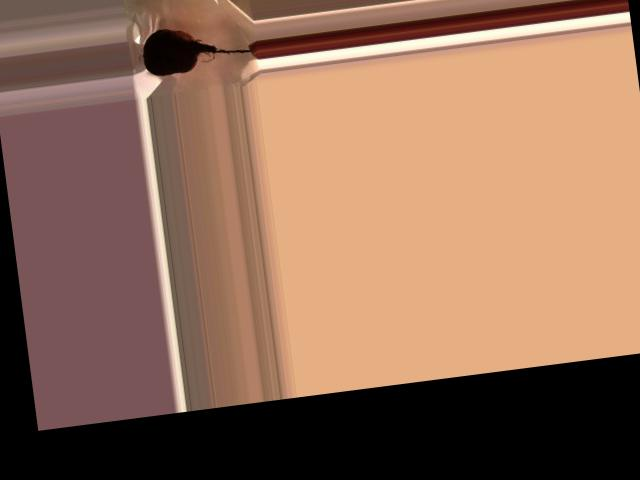beet: (140, 17, 254, 77)
